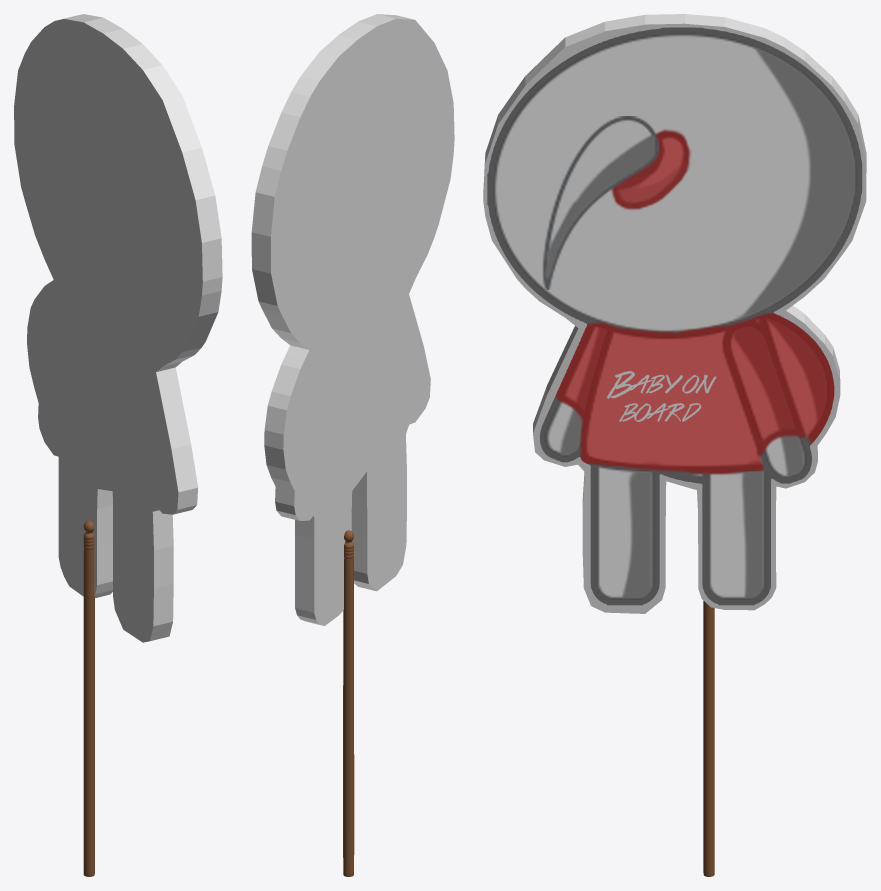
The model's file is scn5_Embarazada.fbx.
3 views of the same model, side by side, from view 1: azimuth 30°, elevation 25°; view 2: azimuth 150°, elevation 25°; view 3: azimuth 270°, elevation 25° (orthographic). The views are drawn at different scales.
Visible parts, largest first — view 1: pCylinder12; view 2: pCylinder12; view 3: pCylinder12.
Boxes of the visible parts, bbox=[...] form: pCylinder12: bbox=[14, 14, 222, 876]; pCylinder12: bbox=[251, 14, 454, 876]; pCylinder12: bbox=[483, 14, 866, 876].
Size of the model in its own units: 0.8666 by 25.74 by 10.37.
